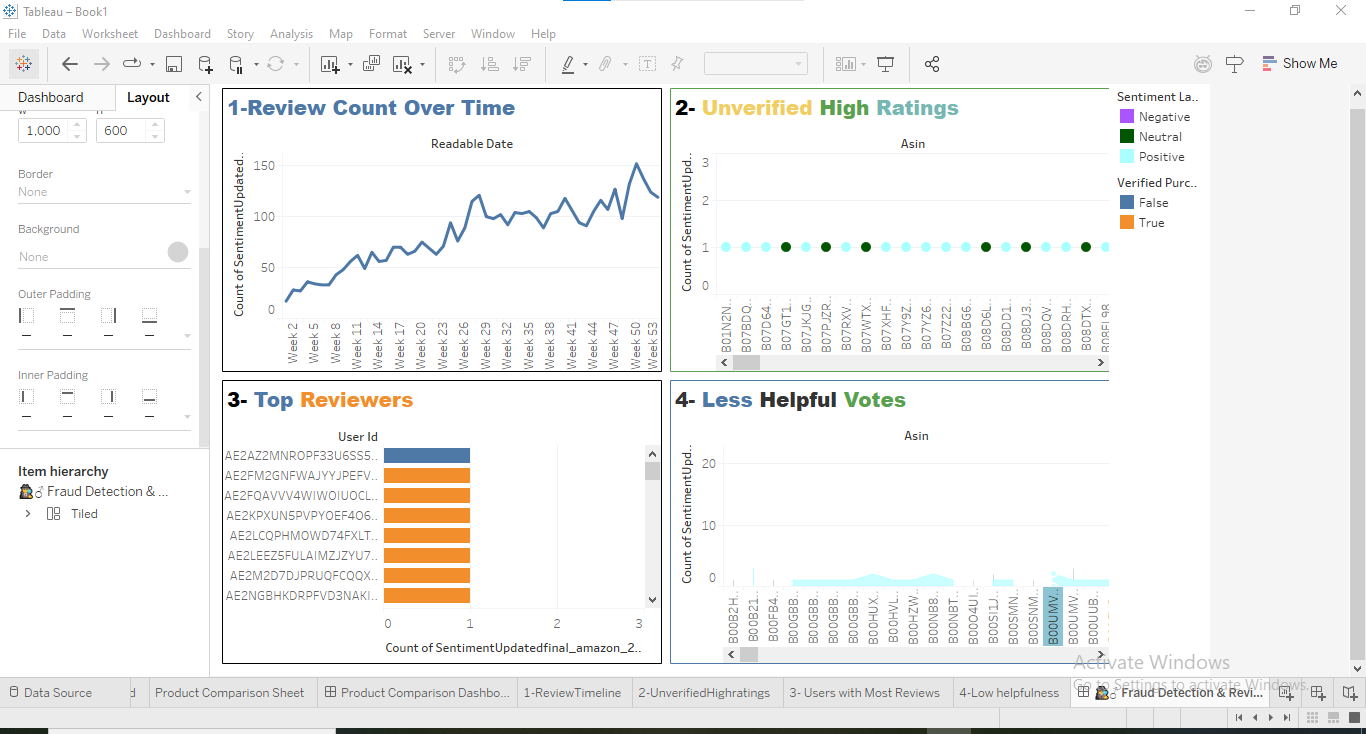

Layout of this report page (visuals, bound fields, positions):
{"tool":"tableau","page":{"name":"🕵️♂️ Fraud Detection & Review Anomalies","canvas":[1000,600],"ordinal":4},"visuals":[{"type":"worksheet","title":"1-ReviewTimeline","mark":"Line","cols":["readable_date"],"box":[8,8,447.5,292]},{"type":"worksheet","title":"2-UnverifiedHighratings","mark":"Circle","cols":["asin"],"box":[455.5,8,447.5,292]},{"type":"legend","title":"2-UnverifiedHighratings","param":"[federated.1t3j97001l90qf15kqw2o16jm9m2].[none:sentiment_label:nk]","box":[903,8,89,86]},{"type":"legend","title":"3- Users with Most Reviews","param":"[federated.1t3j97001l90qf15kqw2o16jm9m2].[none:verified_purchase:nk]","box":[903,94,89,66]},{"type":"worksheet","title":"3- Users with Most Reviews","mark":"Bar","rows":["user_id"],"box":[8,300,447.5,292]},{"type":"worksheet","title":"4-Low helpfulness","mark":"Area","cols":["asin"],"box":[455.5,300,447.5,292]}]}

Visuals, with their boxes on the page's 1000x600 design canvas (x1, y1, x2, y2). These are canvas units, not pixel positions in the 1366x734 screenshot, which may show the page scaled, cropped or inside an application window:
"1-ReviewTimeline" worksheet (Line marks): (8, 8, 456, 300)
"2-UnverifiedHighratings" worksheet (Circle marks): (456, 8, 903, 300)
"2-UnverifiedHighratings" legend: (903, 8, 992, 94)
"3- Users with Most Reviews" legend: (903, 94, 992, 160)
"3- Users with Most Reviews" worksheet (Bar marks): (8, 300, 456, 592)
"4-Low helpfulness" worksheet (Area marks): (456, 300, 903, 592)
